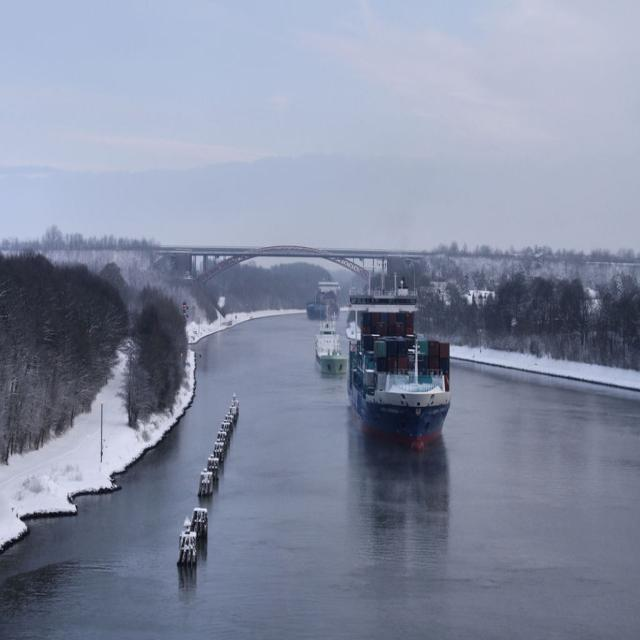Boat: (339, 258, 462, 446), (314, 316, 351, 379)
